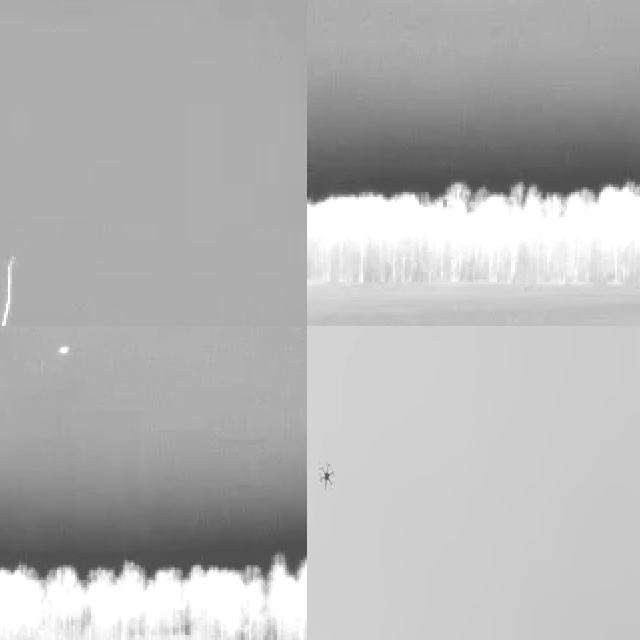1: (53, 338, 79, 364)
drone: (315, 459, 338, 494)
